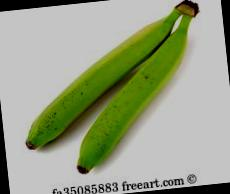Banana Unripe: (3, 0, 225, 188)
